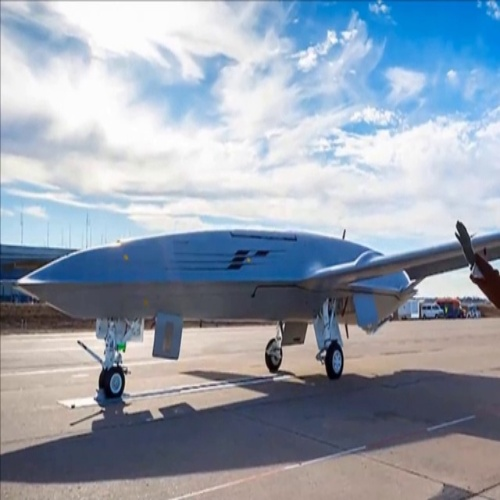uav1011: (7, 220, 500, 396)
